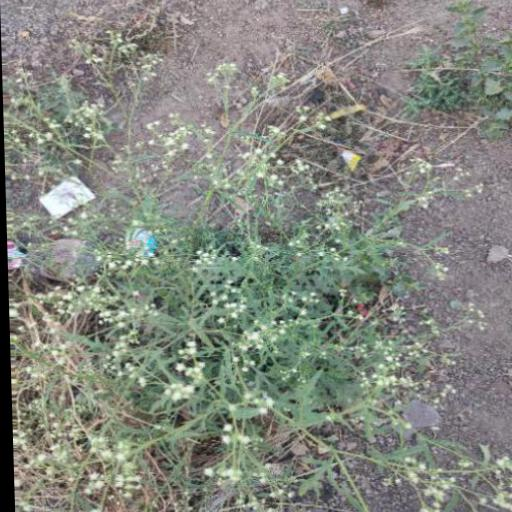weed: (15, 187, 424, 504)
